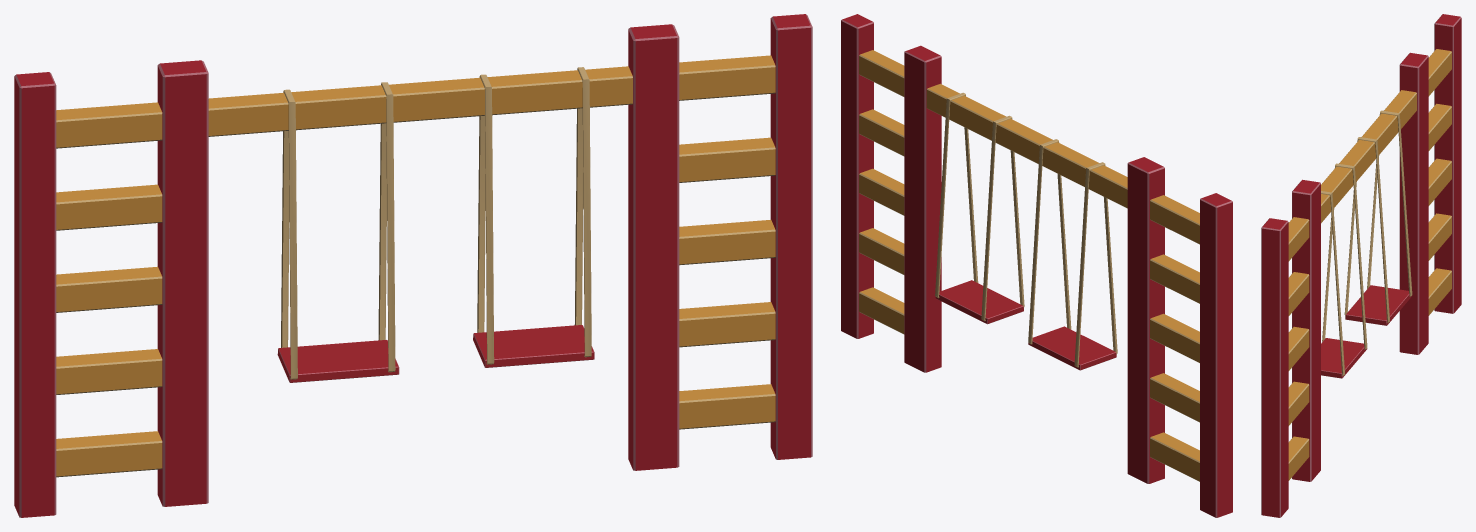
The model's file is Swing.fbx.
The picture shows the model from 3 angles, left to right: view 1: azimuth 30°, elevation 25°; view 2: azimuth 150°, elevation 25°; view 3: azimuth 270°, elevation 25°; orthographic projection. The views are drawn at different scales.
Visible parts, largest first — view 1: Cube.020; view 2: Cube.020; view 3: Cube.020.
Boxes of the visible parts, x1,y1,x2,y2 form: Cube.020: [14, 14, 812, 517]; Cube.020: [841, 14, 1232, 517]; Cube.020: [1261, 14, 1461, 517].
Bounding box in the file's own units: 959 × 594 × 375.
